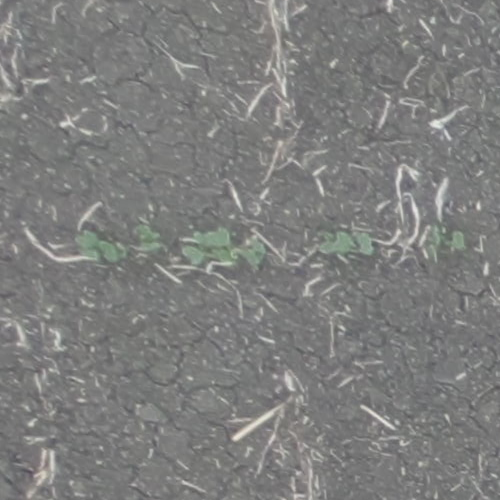plant: (182, 230, 233, 267), (74, 232, 117, 263), (134, 223, 159, 256), (430, 227, 465, 250), (319, 230, 350, 252), (242, 239, 266, 264), (356, 232, 376, 255)
